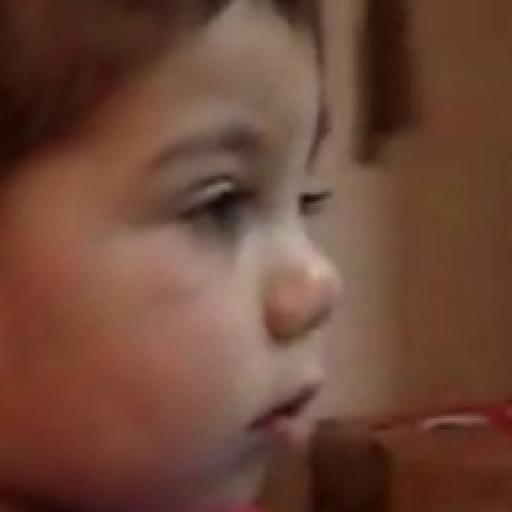Autism: (30, 1, 407, 512)
